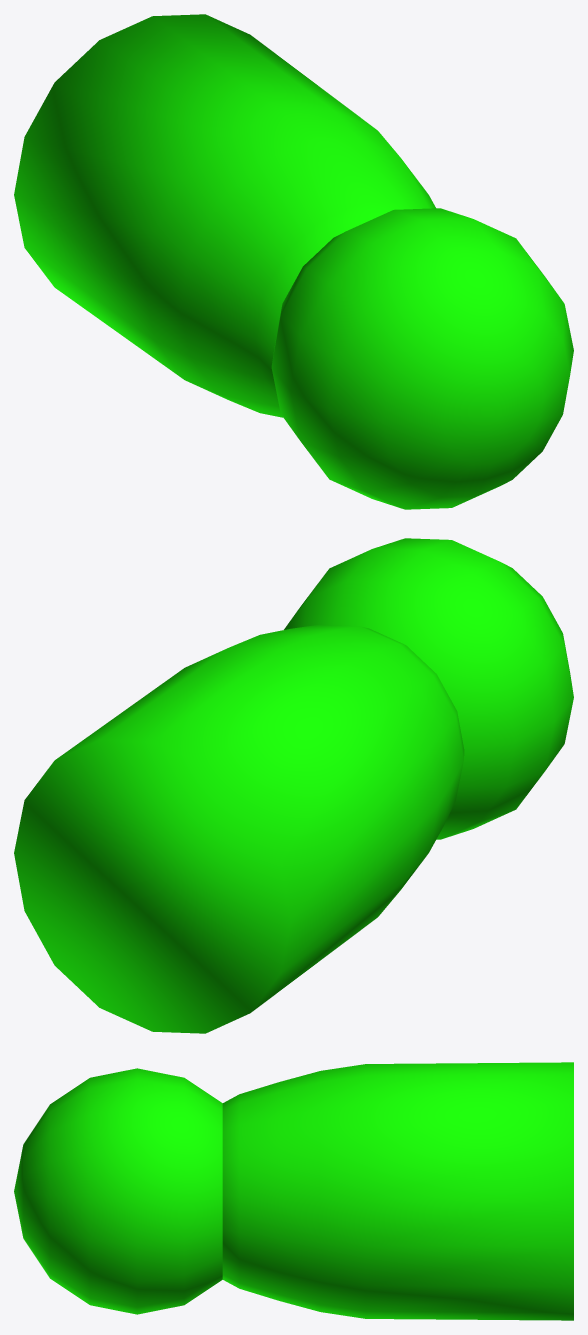
Rendered from starting_unit_green.glb.
3 views of the same model, one above another, from view 1: azimuth 30°, elevation 25°; view 2: azimuth 150°, elevation 25°; view 3: azimuth 270°, elevation 25° (orthographic). The views are drawn at different scales.
Parts seen in each view (by area): view 1: starting_unit_green; view 2: starting_unit_green; view 3: starting_unit_green.
Boxes of the visible parts, x1,y1,x2,y2 form: starting_unit_green: (14,14,573,509); starting_unit_green: (14,538,573,1033); starting_unit_green: (14,1062,573,1320).
Bounding box in the file's own units: 1 × 1 × 2.17.
